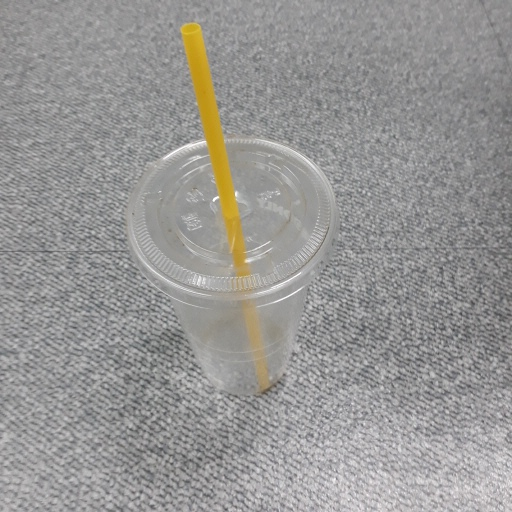Plastic_2: (129, 21, 340, 398)
